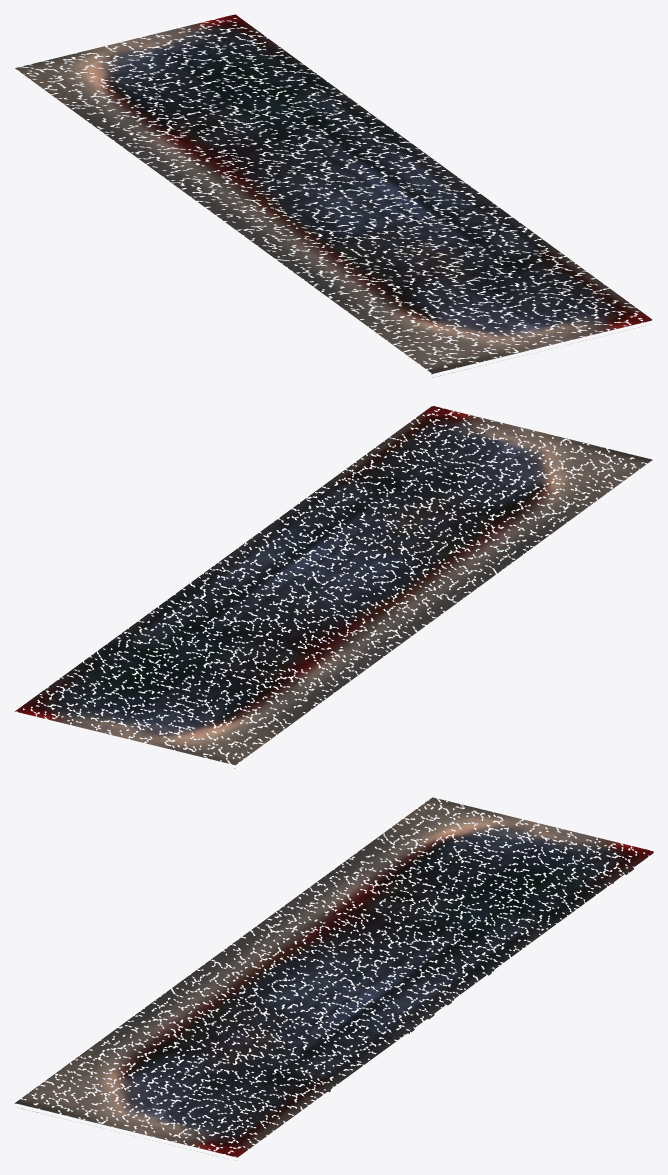
File: berry_1784127860_23207208.glb
3 views of the same model, one above another, from view 1: azimuth 30°, elevation 25°; view 2: azimuth 150°, elevation 25°; view 3: azimuth 330°, elevation 25° (orthographic).
Visible parts, largest first — view 1: Hero; view 2: Hero; view 3: Hero.
Boxes of the visible parts, x1,y1,x2,y2 form: Hero: [15, 14, 652, 377]; Hero: [15, 406, 652, 768]; Hero: [15, 797, 653, 1160].
Bounding box in the file's own units: 0.1793 × 0.00365 × 0.5821.
1 material, 1 textured.
